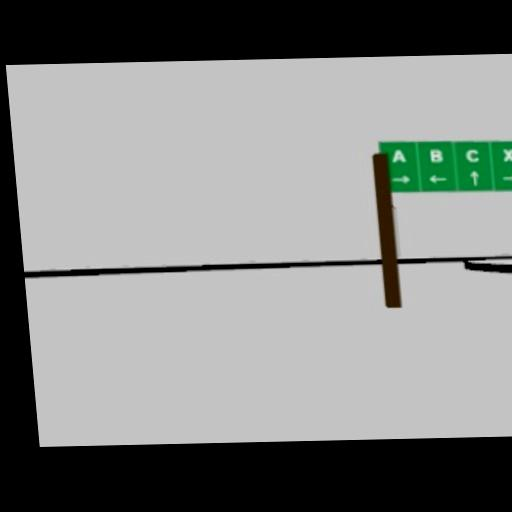A: (390, 149, 406, 162)
B: (428, 148, 443, 161)
C: (465, 148, 481, 161)
Left: (428, 173, 447, 182)
Right: (391, 174, 410, 183), (500, 174, 512, 182)
Straight: (468, 170, 479, 186)
X: (502, 147, 512, 161)
